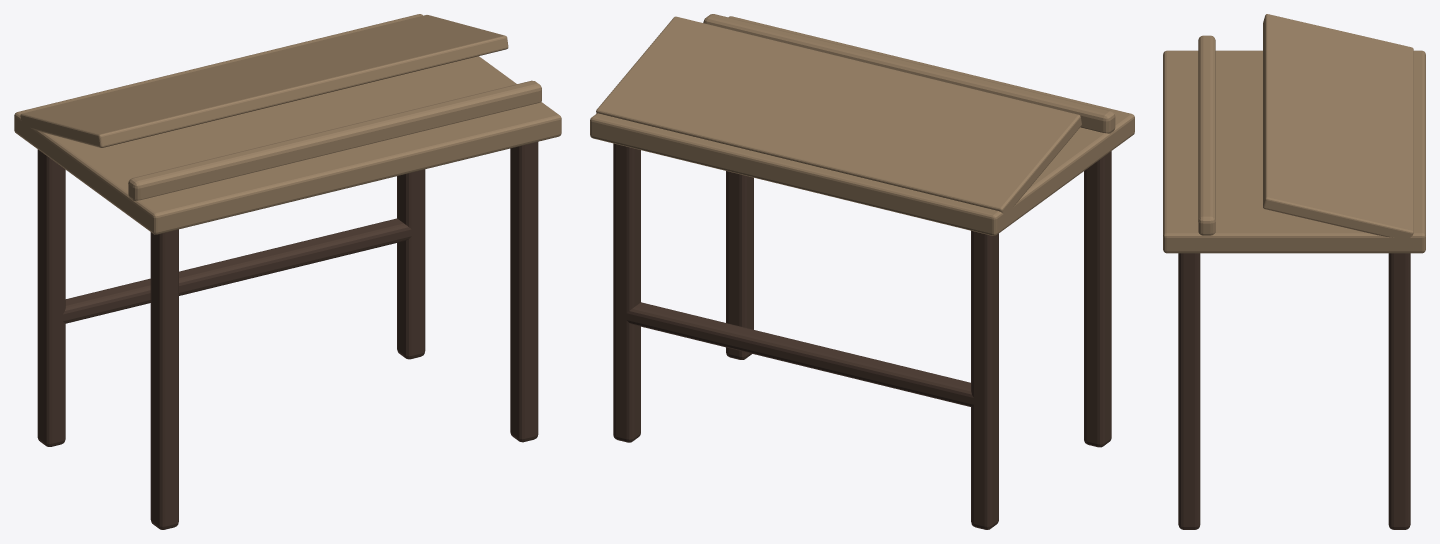
File: student_desk_slanted.glb
3 renders of one model, left to right at view 1: azimuth 30°, elevation 25°; view 2: azimuth 150°, elevation 25°; view 3: azimuth 270°, elevation 25°, orthographic. The views are drawn at different scales.
Parts seen in each view (by area): view 1: GD_student_desk_slanted__m0, GD_student_desk_slanted__m1; view 2: GD_student_desk_slanted__m0, GD_student_desk_slanted__m1; view 3: GD_student_desk_slanted__m0, GD_student_desk_slanted__m1.
Part boxes in pixels (bbox=[...]): GD_student_desk_slanted__m0: bbox=[14, 14, 561, 234]; GD_student_desk_slanted__m1: bbox=[37, 142, 538, 529]; GD_student_desk_slanted__m0: bbox=[590, 14, 1134, 235]; GD_student_desk_slanted__m1: bbox=[613, 143, 1111, 529]; GD_student_desk_slanted__m0: bbox=[1163, 14, 1425, 253]; GD_student_desk_slanted__m1: bbox=[1178, 253, 1410, 529].
Bounding box in the file's own units: 1 × 0.8566 × 0.6.
